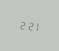one: (33, 20, 39, 31)
two: (26, 19, 32, 31), (18, 19, 24, 30)
